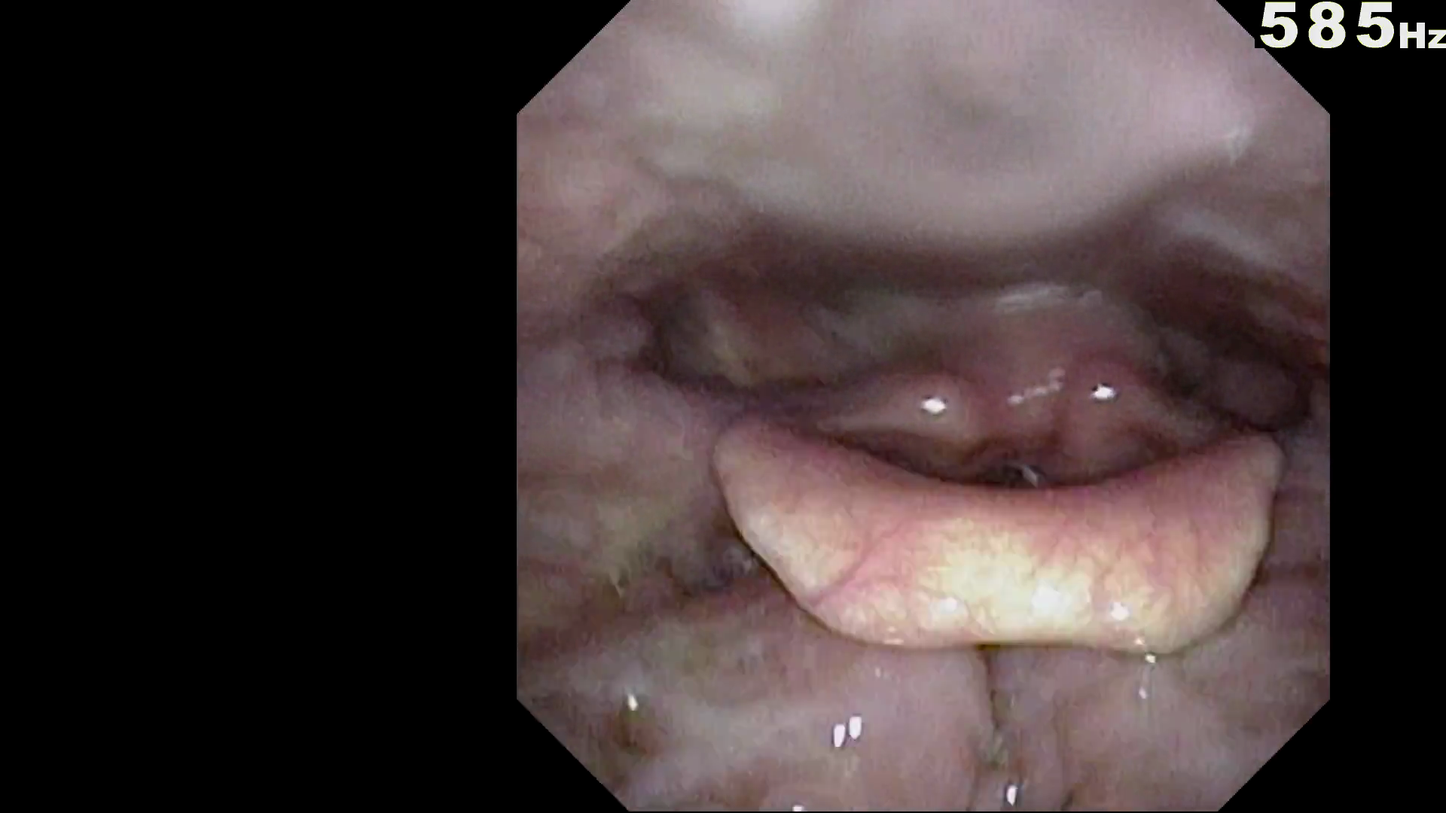epiglottis: (688, 406, 1296, 667)
trachea: (951, 419, 1072, 536)
